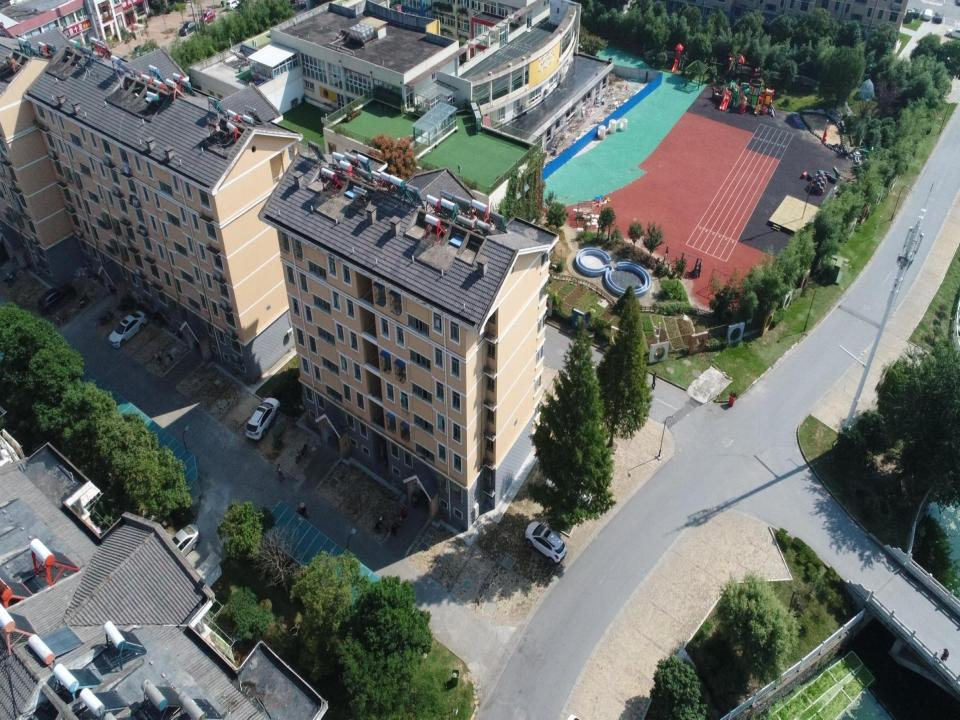car: (525, 521, 567, 566), (546, 471, 593, 511), (165, 522, 202, 565), (108, 310, 148, 348), (245, 398, 281, 440), (37, 282, 76, 314), (179, 20, 198, 36), (199, 10, 216, 25), (225, 0, 240, 11), (932, 11, 944, 24), (922, 8, 933, 21), (913, 7, 920, 19)
